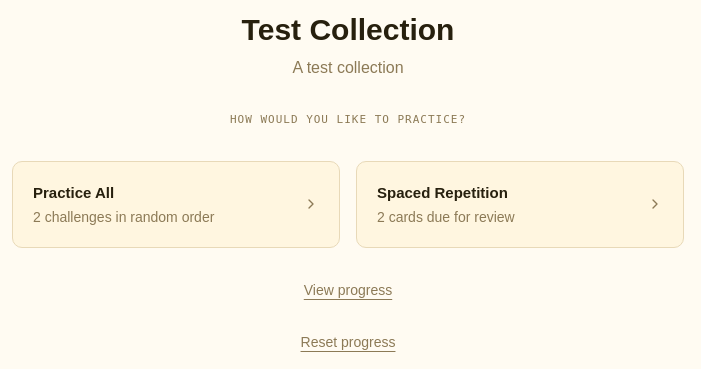
Test: ModePicker › hides confirmation and restores reset button when Cancel is clicked
The width and height of the screenshot is (701, 369).
Click the button "Reset progress".
click(348, 342)  # box 300,332 -> 395,352
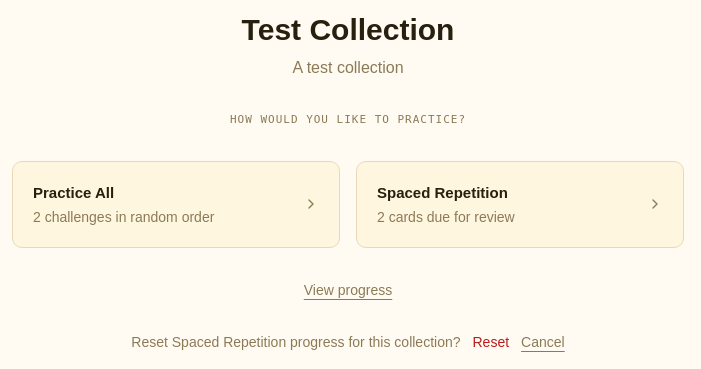
Click the button "Cancel".
click(543, 342)  # box 521,332 -> 565,352
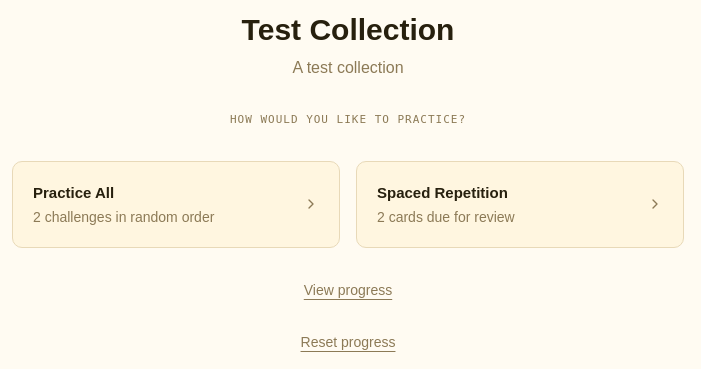
Expected: the text "Reset Spaced Repetition progress for this collection?" is gone
Expected: the button "Reset progress" is shown, 300,332 -> 395,352
